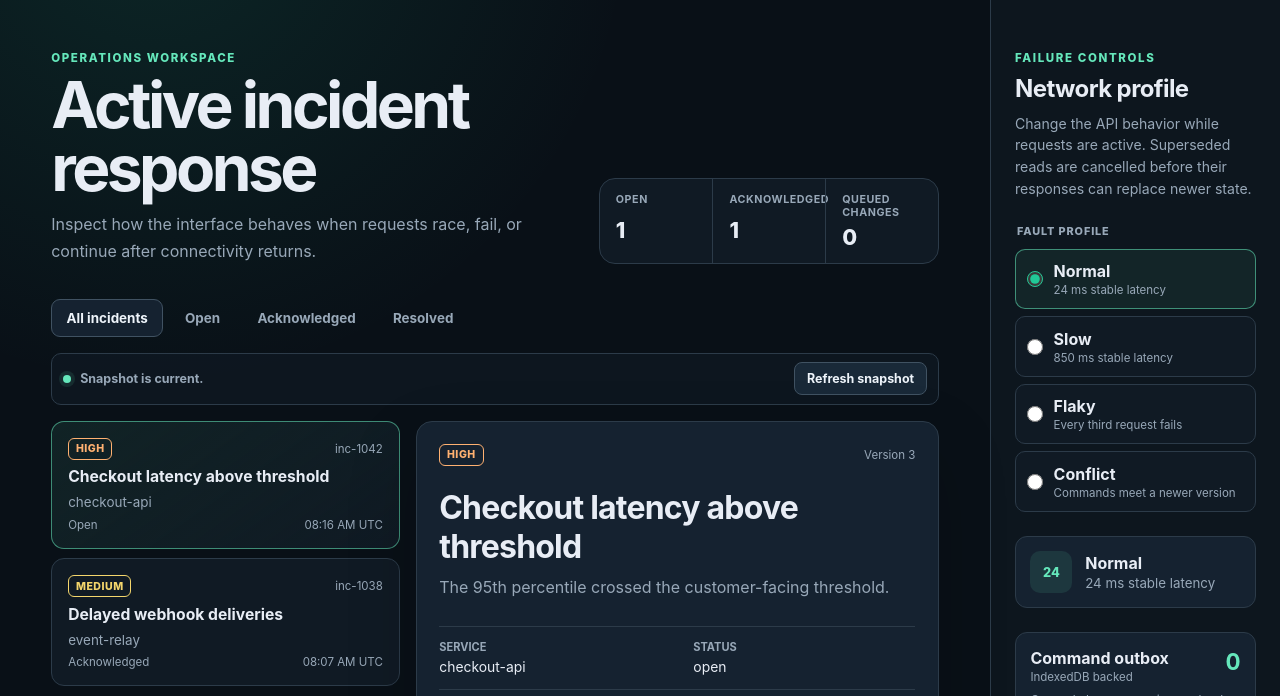
Test case: IncidentConsole › shows authoritative state when a command is blocked by a conflict
expect the button "Checkout latency above threshold" is shown: met, box [51, 420, 400, 548]
Click the radio button labelled "Conflict Commands meet a newer version" at [1035, 482], box [1027, 474, 1043, 490]
(page scrolled)
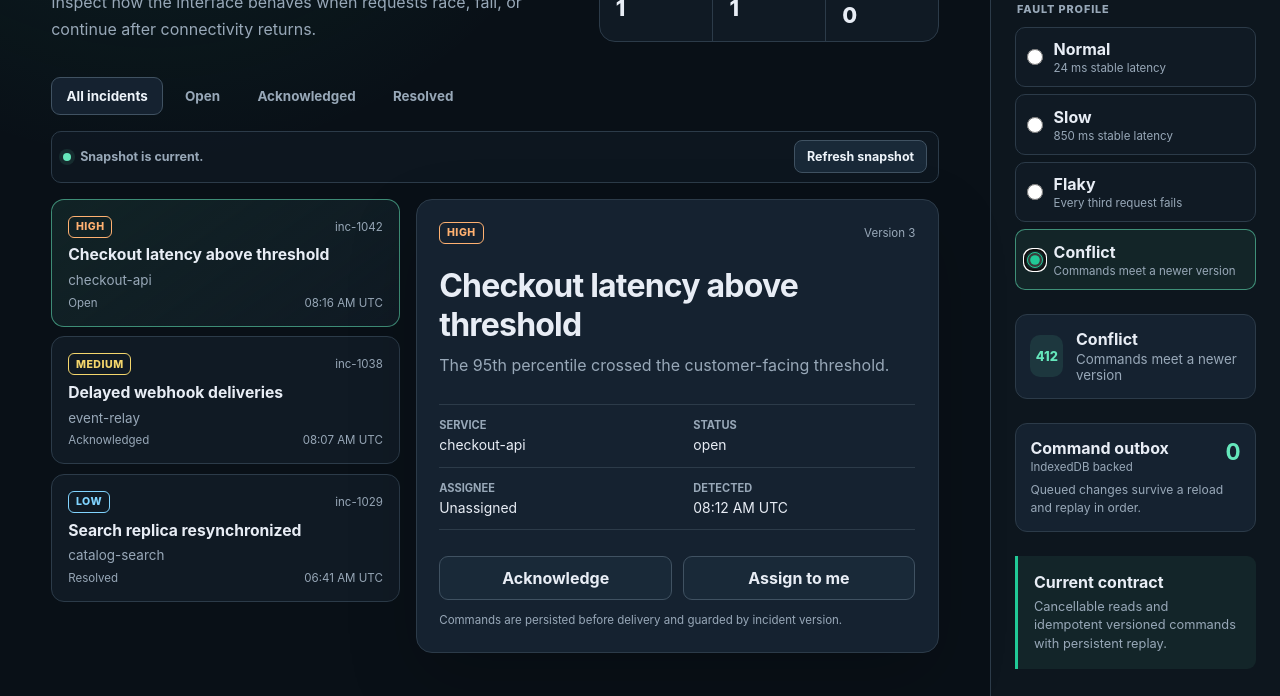
Click the button "Acknowledge" at [556, 578], box [439, 556, 672, 600]
(page scrolled)
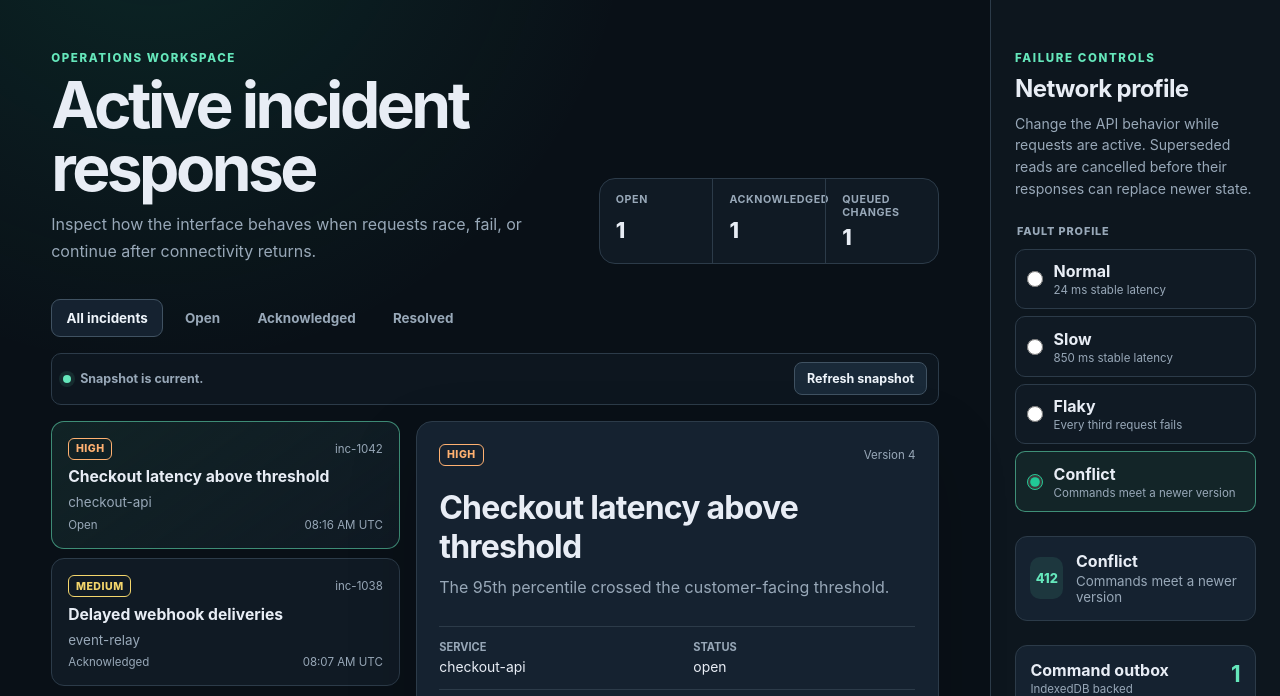
expect the text "Version 4" is shown: met, box [864, 448, 915, 462]
Click the radio button labelled "Normal 24 ms stable latency" at [1035, 279], box [1027, 271, 1043, 287]
(page scrolled)
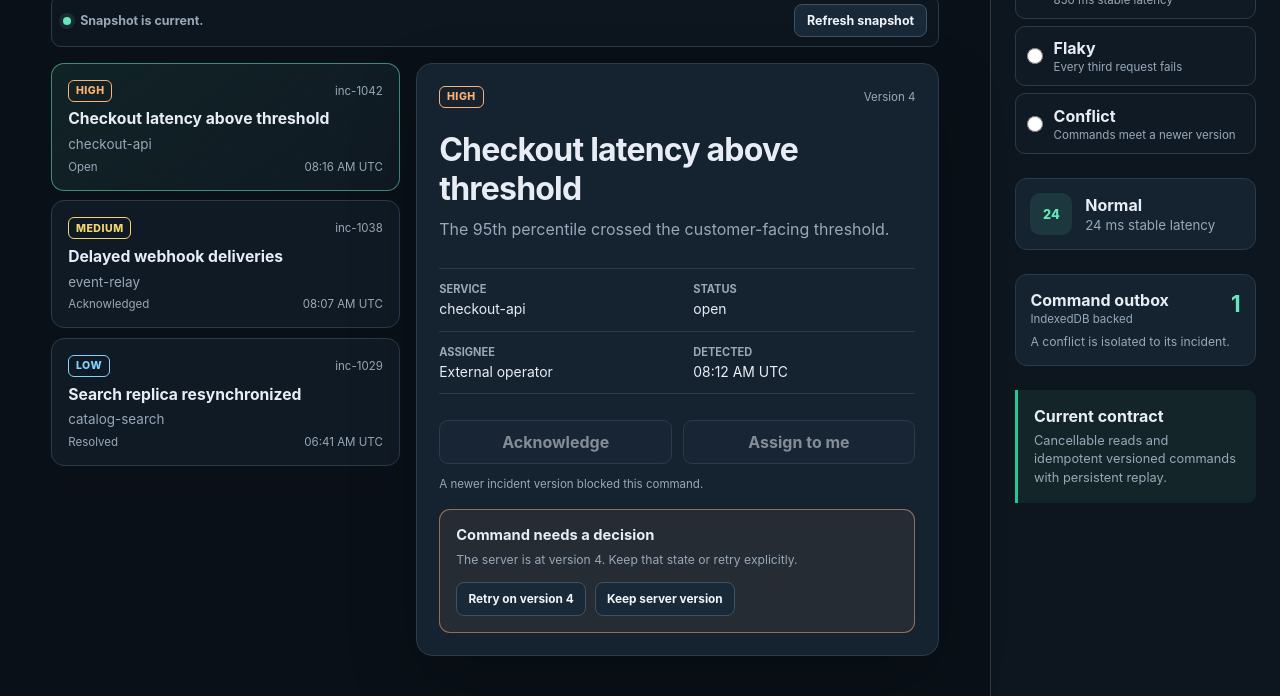
Click the button "Retry on version 4" at [521, 599], box [456, 582, 586, 616]
(page scrolled)
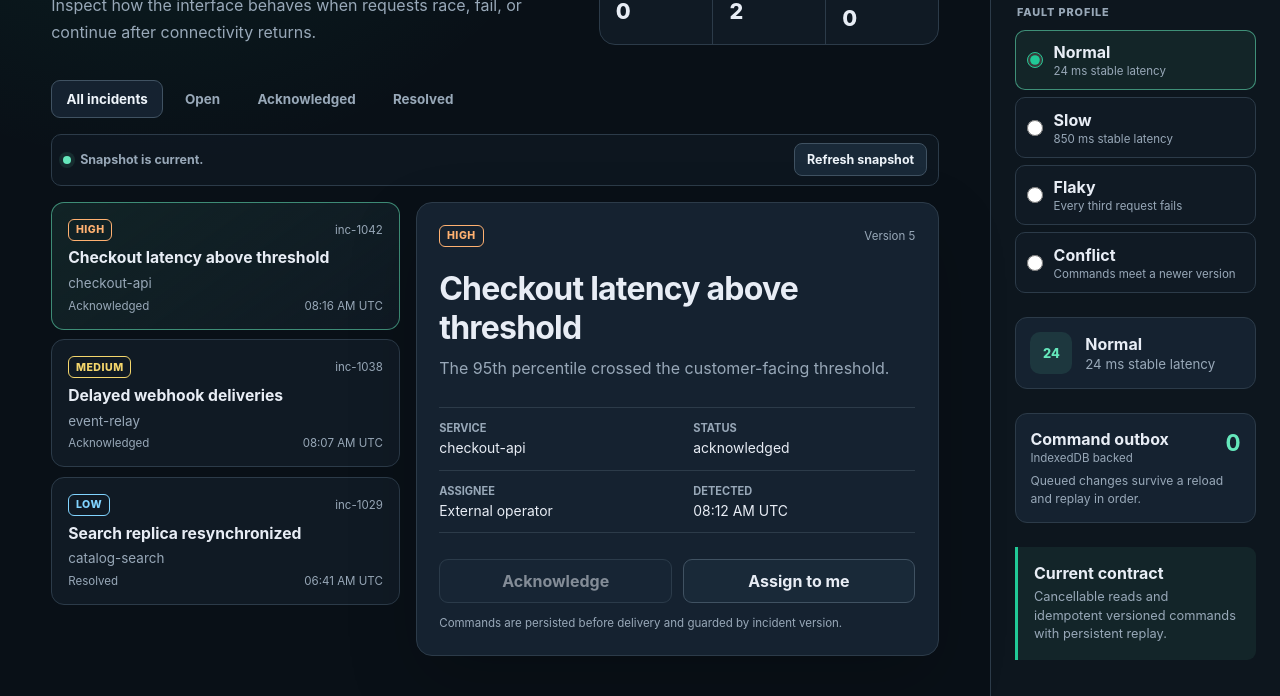
expect the text "Version 5" is shown: met, box [864, 229, 915, 243]
expect the text "acknowledged" below "Status" is shown: met, box [693, 440, 790, 456]
